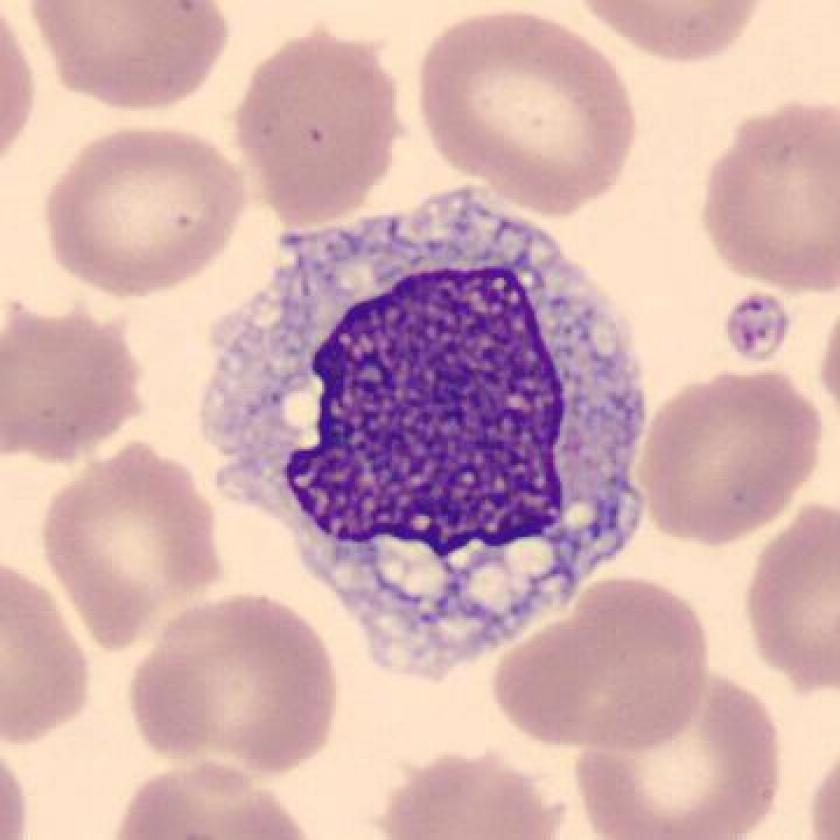monocyte: (183, 170, 668, 697)
